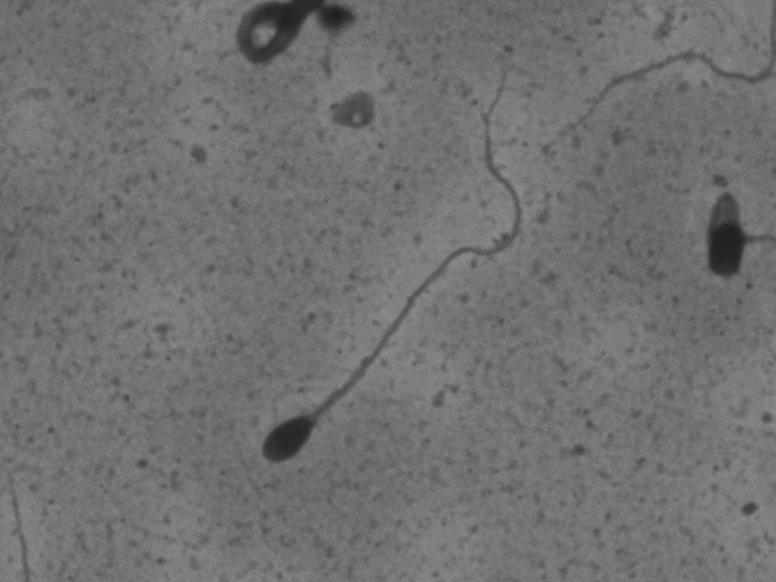Normal: (239, 70, 565, 487)
